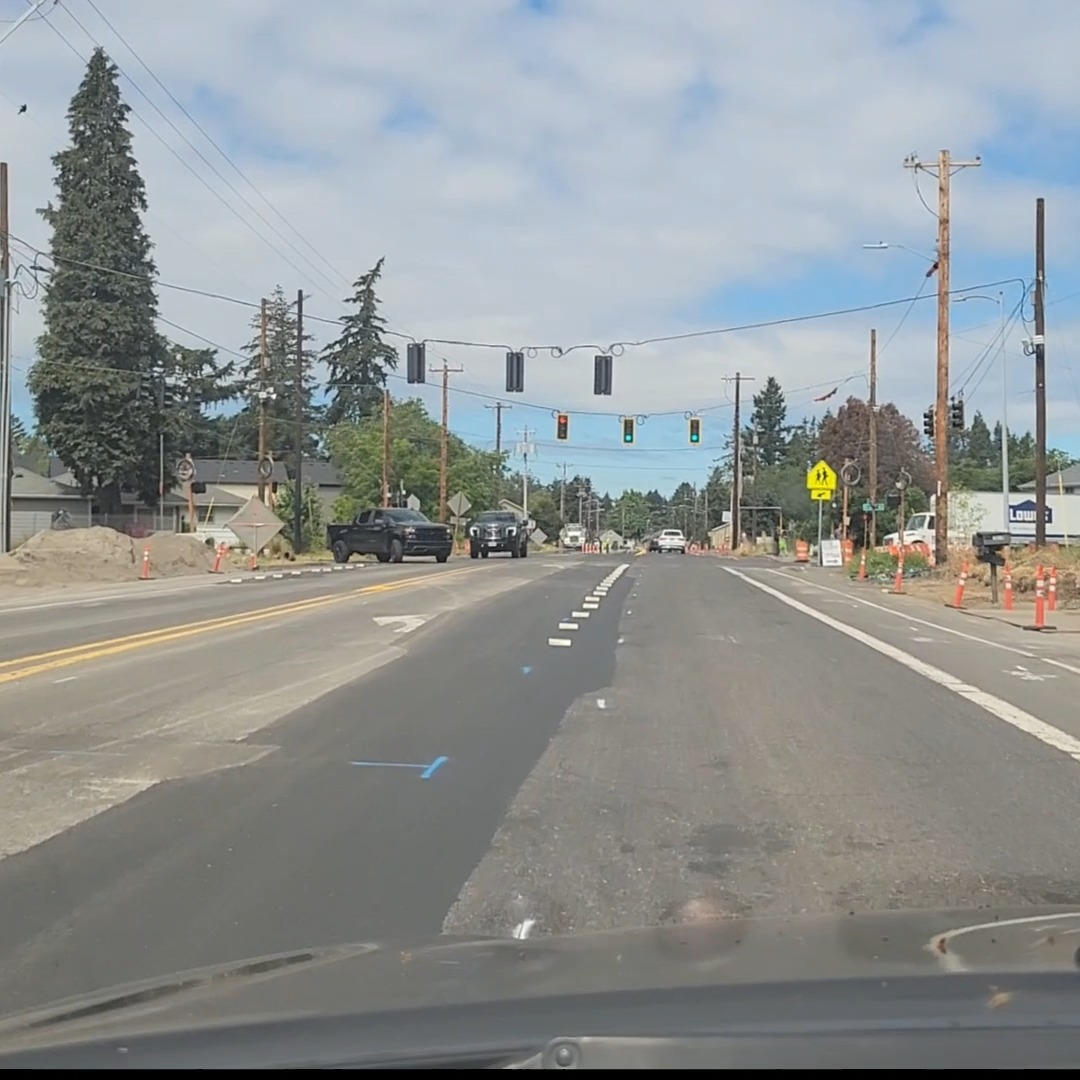car: (325, 506, 454, 563), (464, 510, 530, 558), (650, 529, 687, 554)
crosswalk-sign: (806, 459, 835, 499)
delineator: (1033, 567, 1048, 627), (952, 560, 970, 609), (891, 543, 908, 594), (1002, 561, 1015, 611), (1046, 567, 1058, 612), (212, 540, 228, 572), (139, 547, 153, 579), (857, 541, 868, 578), (247, 546, 257, 571)
